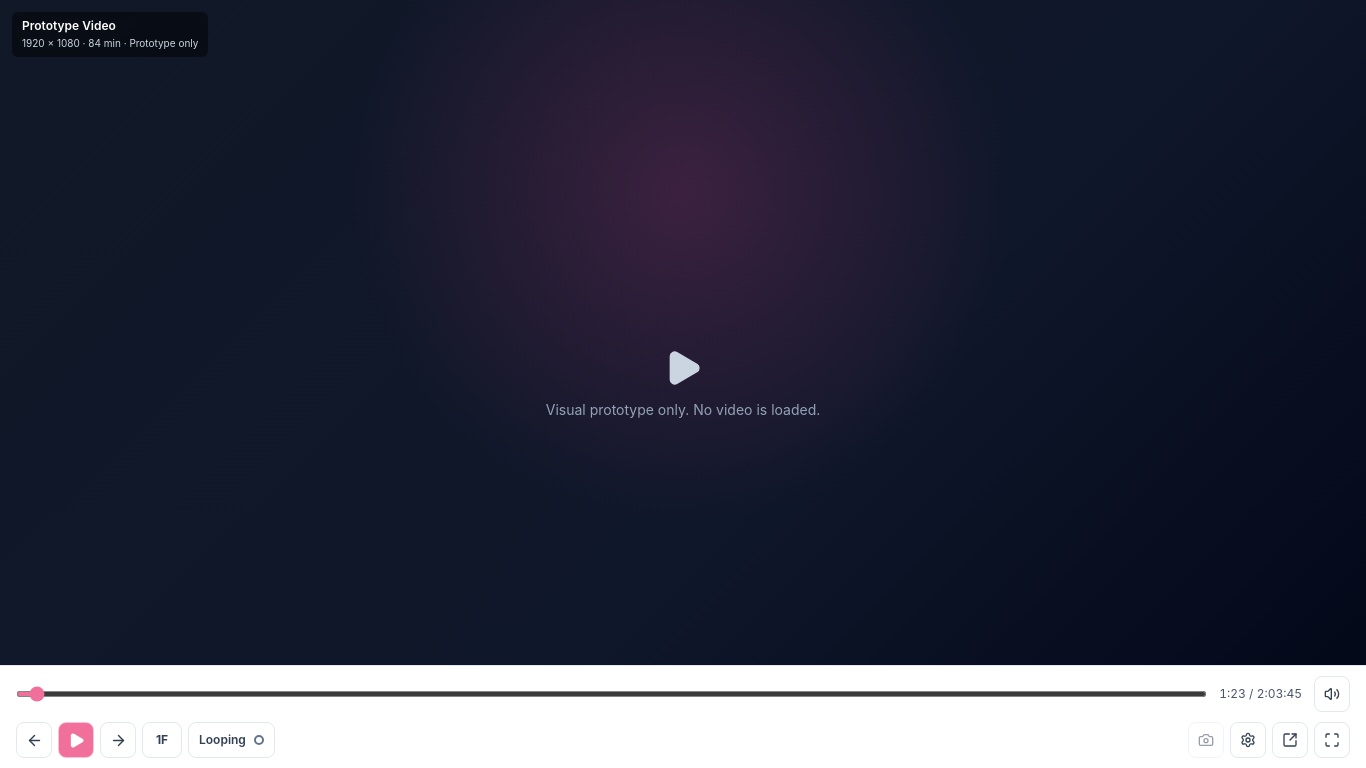
Test: VideoPlayerPrototype › uses visible Looping text and a stable inline A-B editor
The image size is (1366, 768).
Click the button with aria-label "Loop Off" at (231, 740), box [188,722,275,758]
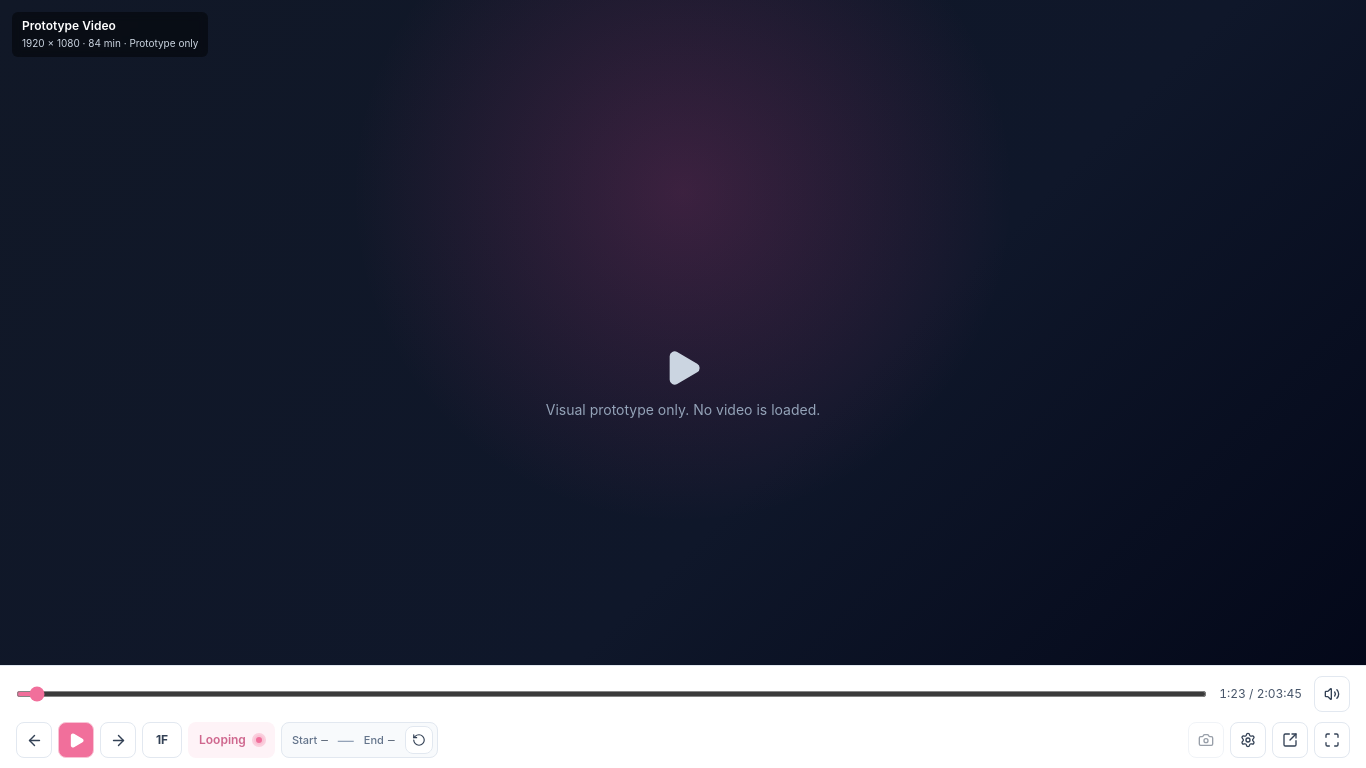
Expected: the button with aria-label "Loop On" is pressed, [188,722,275,758]
Expected: the button with aria-label "Loop On" has attribute data-loop-status="on", [188,722,275,758]
Click the button "Start —" at (310, 740), box [286,726,334,754]
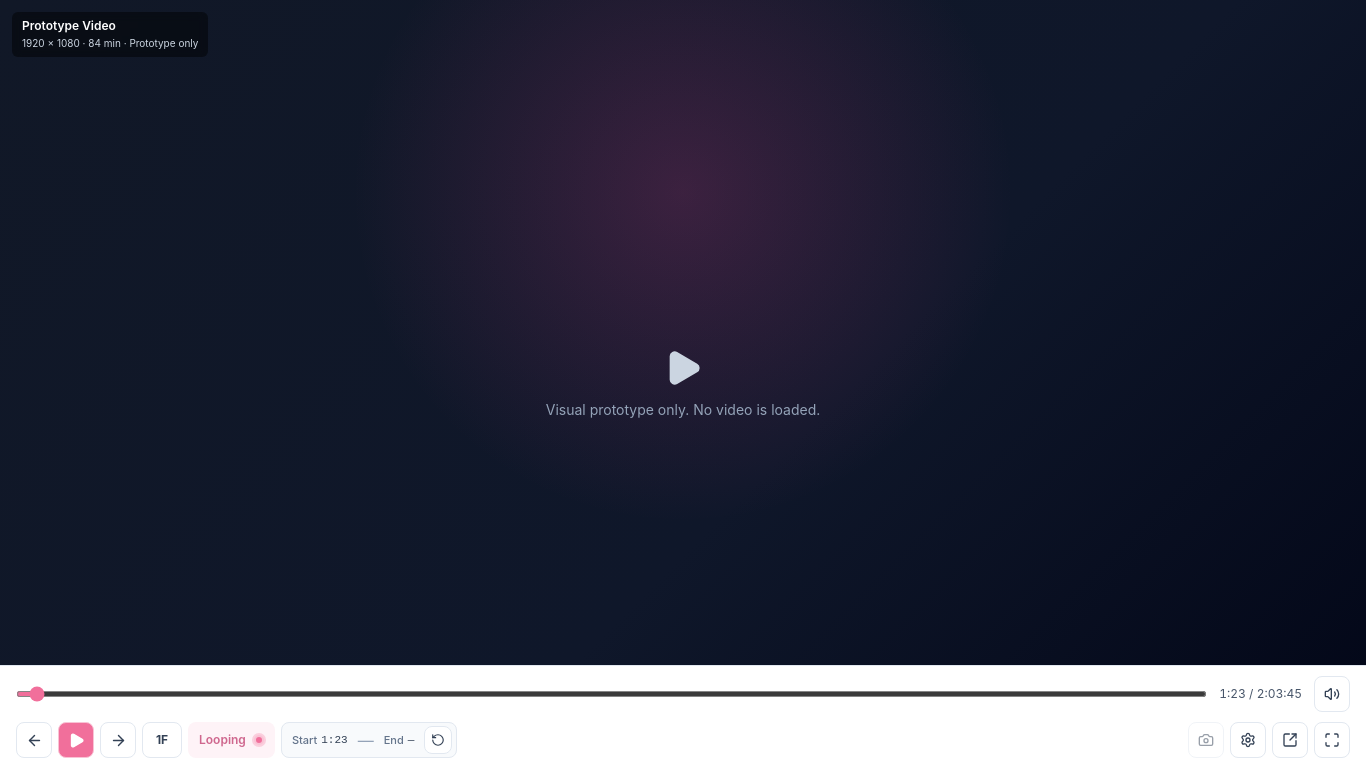
Click the button "End —" at (399, 740), box [378,726,420,754]
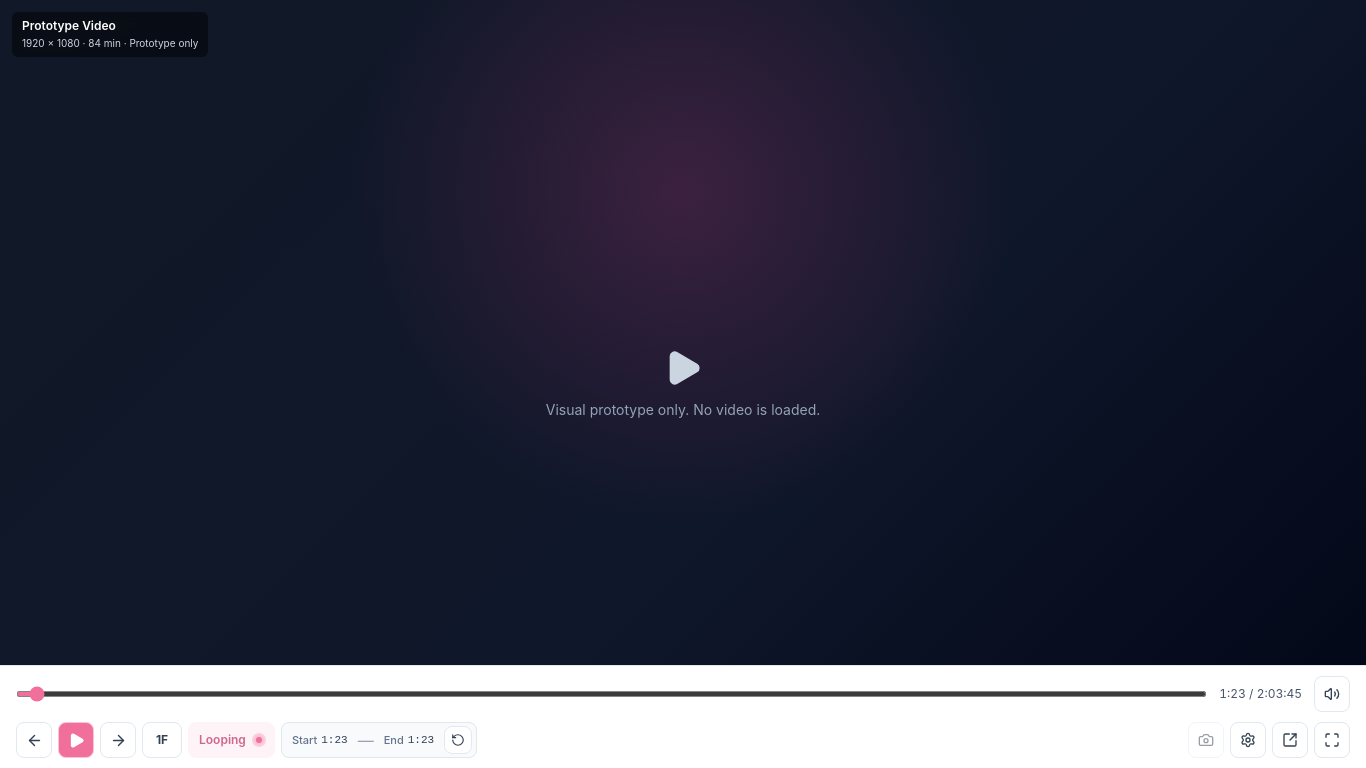
Click the button named "Clear loop markers" at (458, 740), box [444,726,472,754]
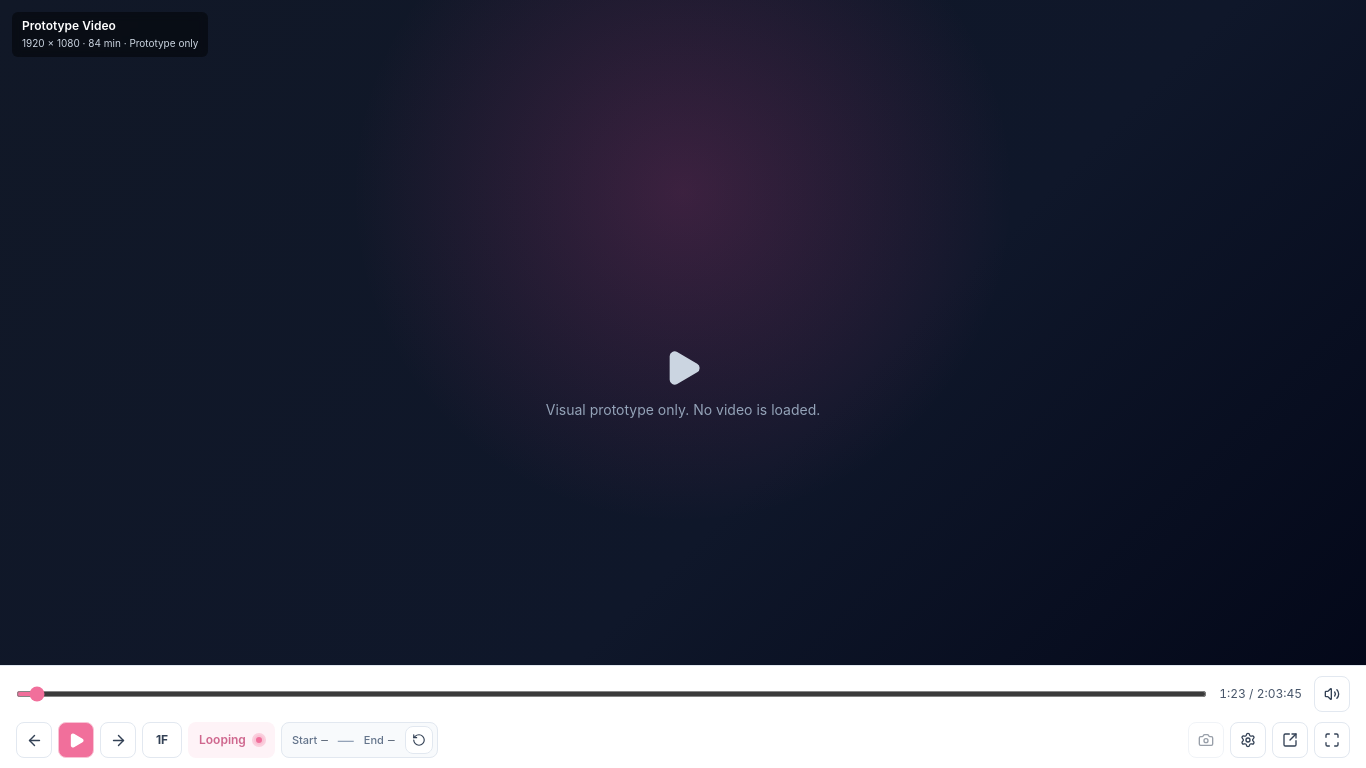
Expected: the button "Start —" is shown, [286,726,334,754]
